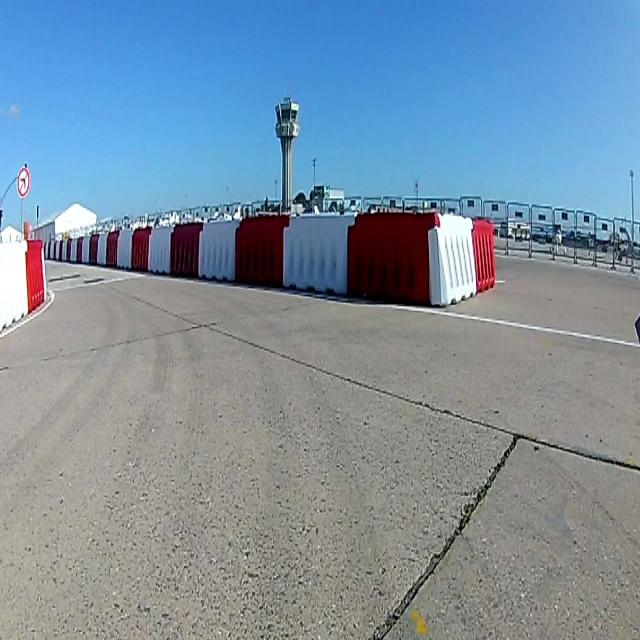soladonulmez: (16, 167, 30, 196)
